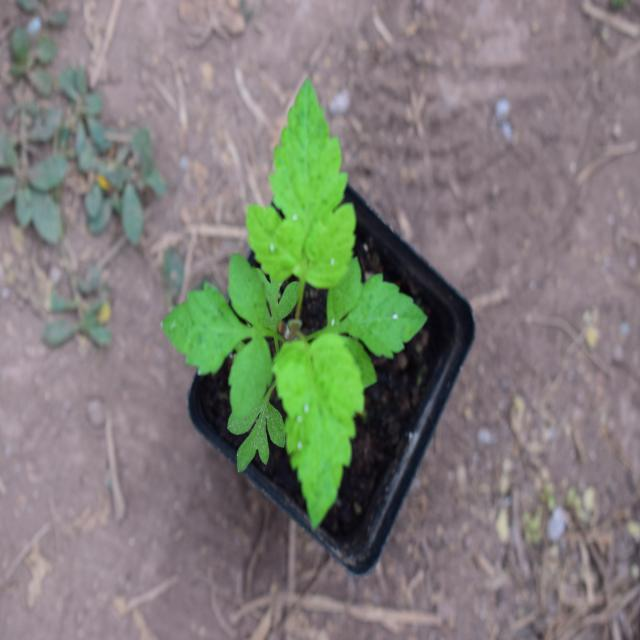Bidens pilosa: (174, 105, 433, 523)
